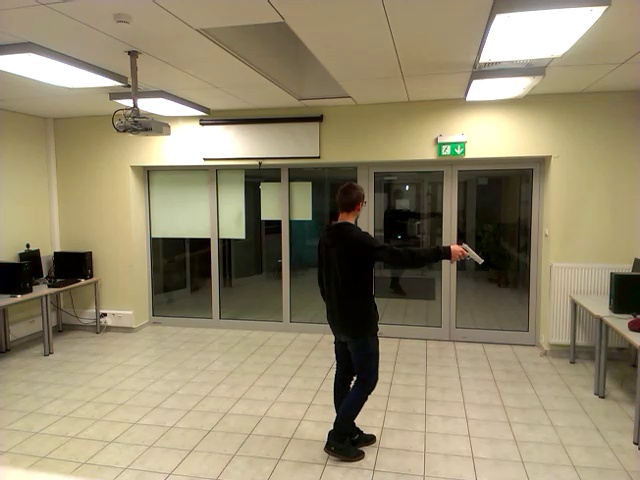gun: (456, 234, 496, 275)
